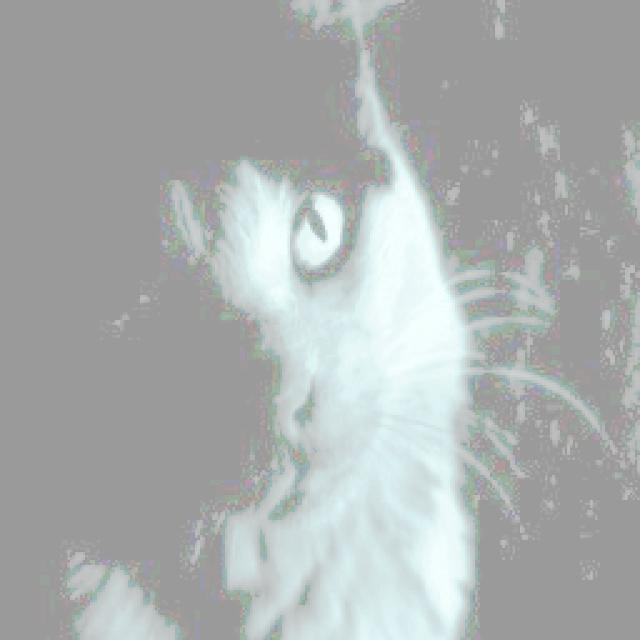cat: (100, 29, 493, 640)
